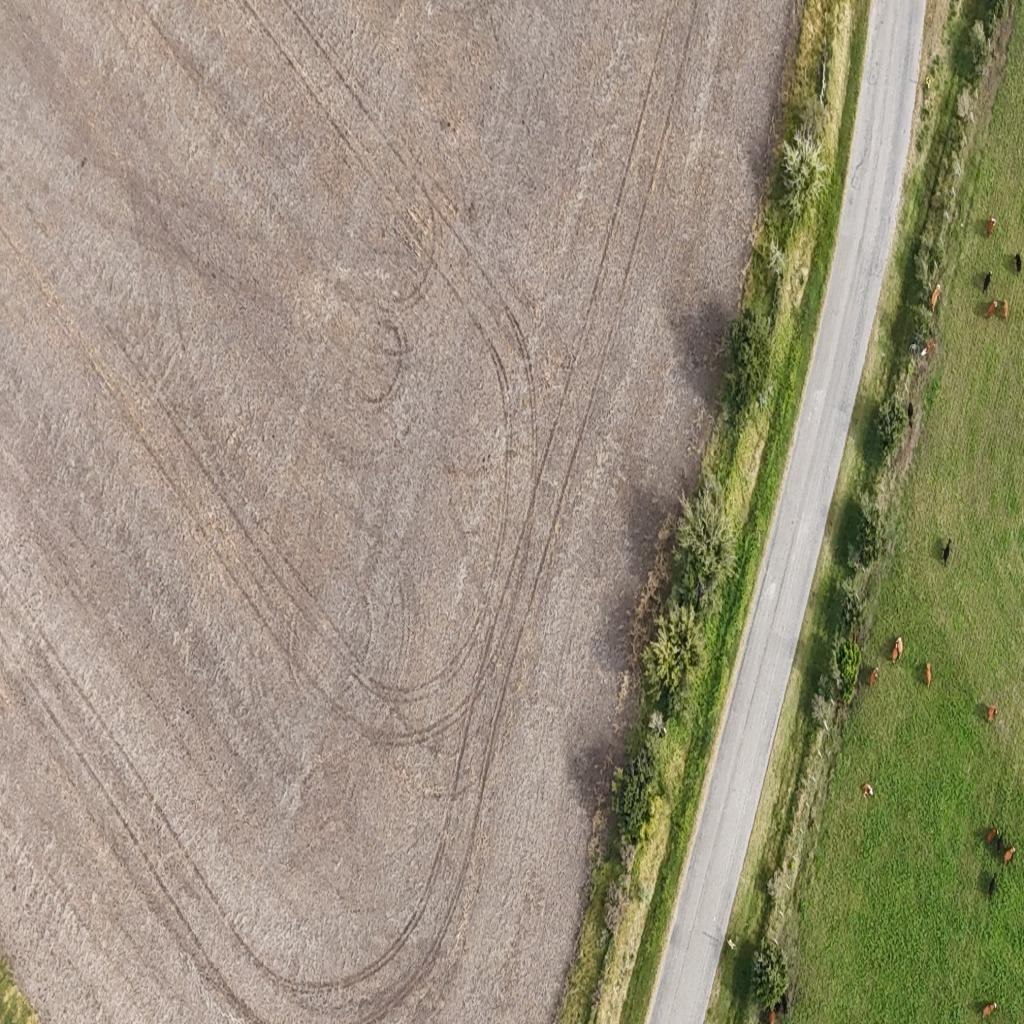cow: (983, 1000, 999, 1020), (930, 284, 940, 312), (942, 538, 952, 566), (988, 873, 997, 899), (987, 825, 996, 850), (983, 271, 992, 295), (779, 992, 788, 1016), (925, 663, 933, 689), (987, 300, 997, 320), (925, 339, 935, 357), (987, 217, 996, 237), (862, 783, 873, 799), (907, 401, 914, 426), (988, 705, 997, 724), (997, 833, 1004, 856), (870, 668, 878, 688), (893, 637, 900, 658), (1003, 298, 1009, 320), (853, 630, 859, 646), (1020, 252, 1024, 274)
